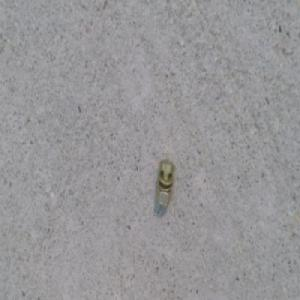BoltNutSet: (155, 162, 172, 209)
